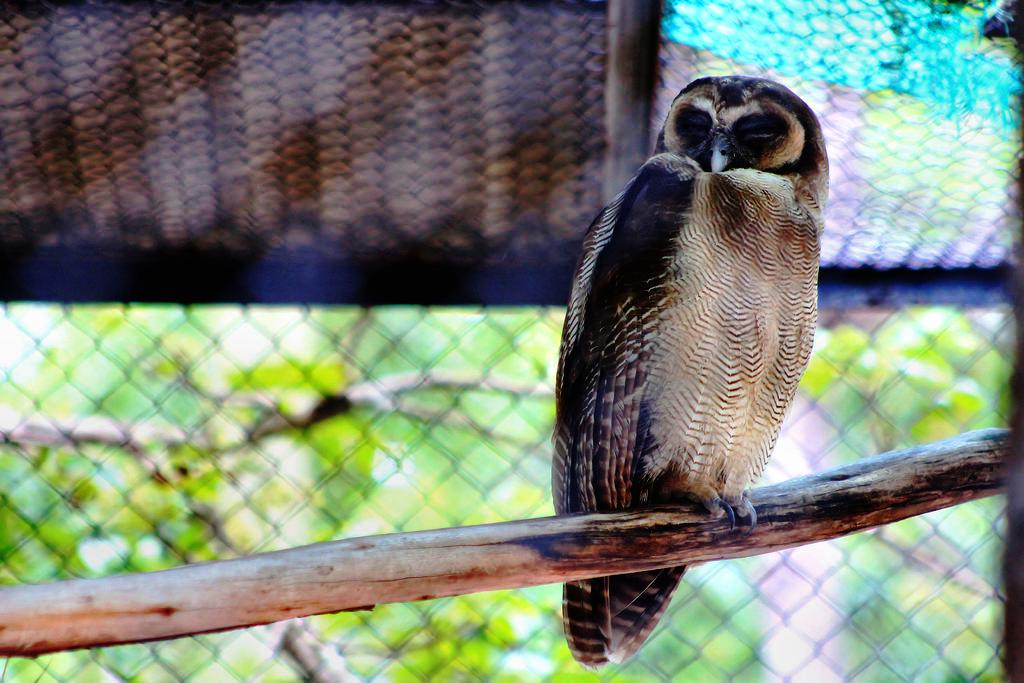Owl: (546, 76, 833, 676)
